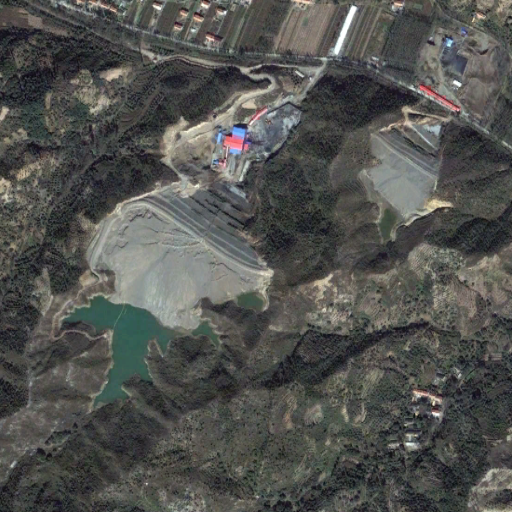tp: (63, 172, 271, 411), (355, 119, 443, 237)
